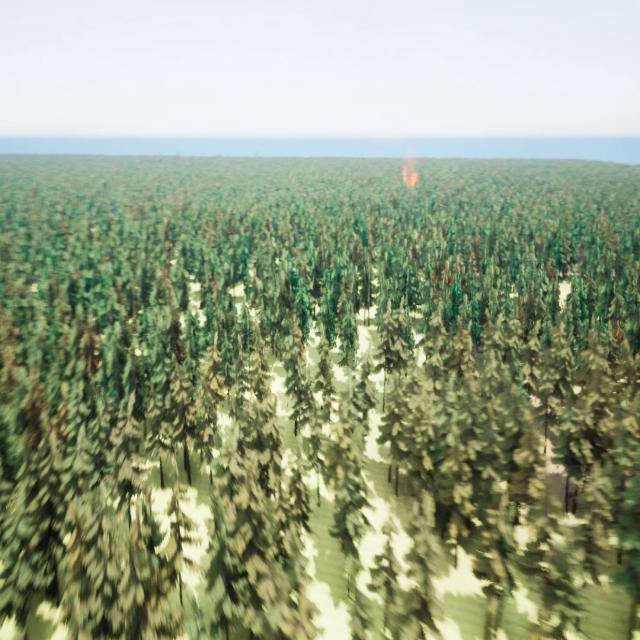fire: (403, 169, 420, 187)
